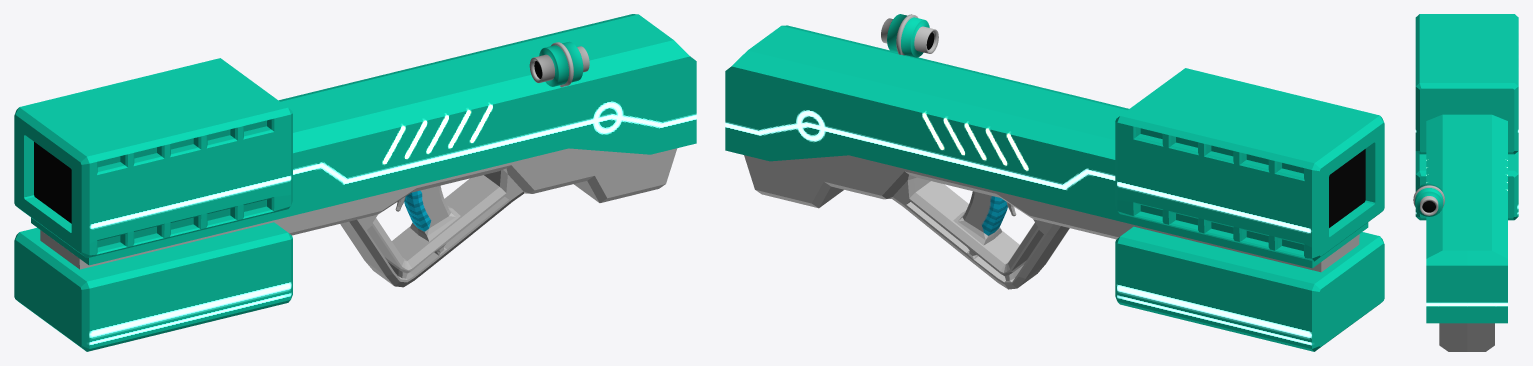
Rendered from Rifle.fbx.
The picture shows the model from 3 angles, left to right: view 1: azimuth 30°, elevation 25°; view 2: azimuth 150°, elevation 25°; view 3: azimuth 270°, elevation 25°; orthographic projection. The views are drawn at different scales.
Visible parts, largest first — view 1: Cylinder; view 2: Cylinder; view 3: Cylinder.
Part boxes in pixels (x1=…): Cylinder: x1=14, y1=14, x2=696, y2=351; Cylinder: x1=725, y1=14, x2=1384, y2=351; Cylinder: x1=1413, y1=14, x2=1518, y2=351.
Bounding box in the file's own units: 124 × 44.18 × 25.98.
